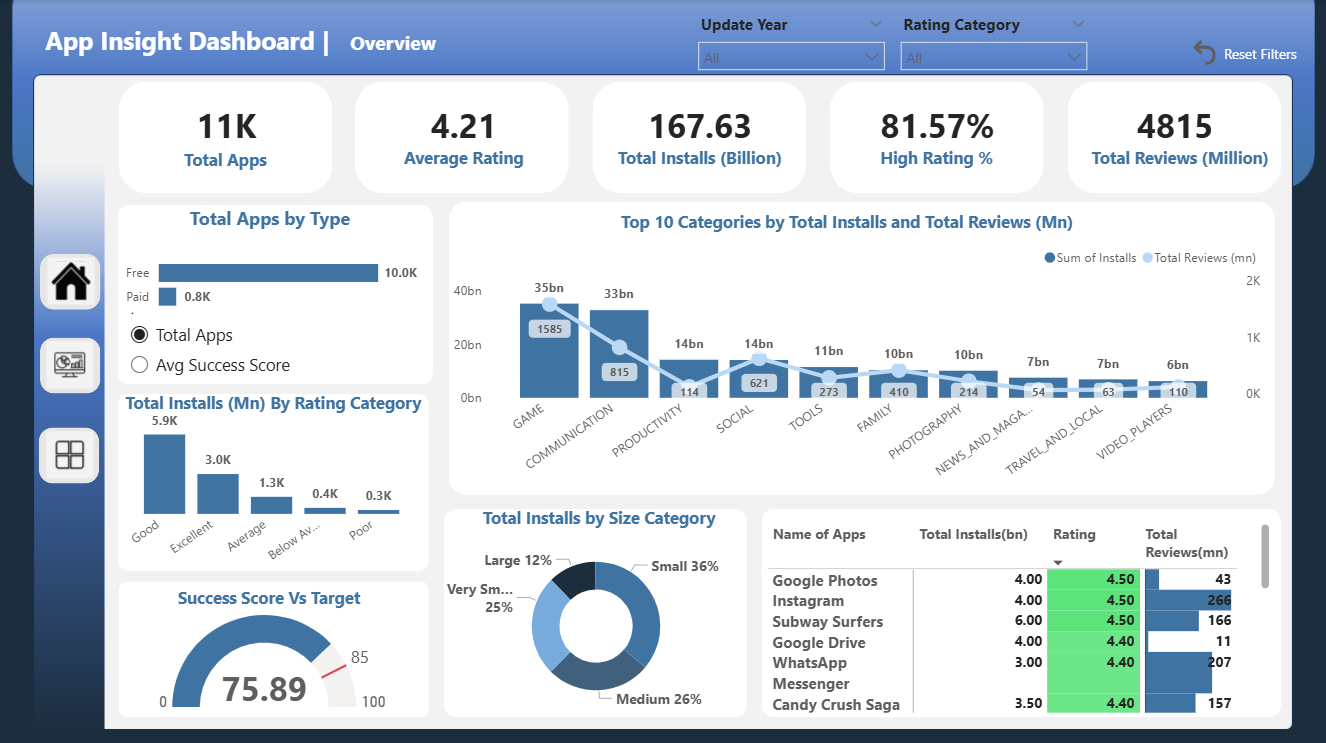

What the dashboard file says about the page in this screenshot:
{"tool":"powerbi","page":{"name":"Home","canvas":[1280,720],"ordinal":0},"visuals":[{"type":"shape","box":[38.4,244.6,58.3,54],"z":0},{"type":"shape","box":[734.7,491.2,501.9,201.5],"z":1000},{"type":"shape","box":[428.3,491.2,293.2,201.5],"z":2000},{"type":"shape","box":[114.6,561.2,299.2,131.5],"z":3000},{"type":"shape","box":[113.4,380,300.4,171.3],"z":4000},{"type":"shape","box":[113.4,198.1,304.4,173.1],"z":5000},{"type":"shape","box":[433.1,194.4,797.5,283.5],"z":6000},{"type":"shape","box":[114.1,78.1,206.3,108.2],"z":7000},{"type":"shape","box":[343.2,78.1,206.3,108.2],"z":8000},{"type":"shape","box":[572.2,78.1,206.3,108.2],"z":9000},{"type":"shape","box":[801.3,78.1,206.3,108.2],"z":10000},{"type":"shape","box":[1030.3,78.1,206.3,108.2],"z":11000},{"type":"card","fields":{"Values":["Measure Table.Total Apps"]},"box":[157.7,75,121.2,92.3],"z":12000},{"type":"clusteredBarChart","fields":{"Y":["Measure Table.Total Apps"],"Category":["Apps.Type"]},"box":[113.4,199.5,294.3,122.6],"z":13000},{"type":"donutChart","fields":{"Category":["Apps.Size Category"],"Y":["Measure Table.Total Apps"]},"box":[430.7,517.8,289.5,173.7],"z":14000},{"type":"gauge","fields":{"Y":["Measure Table.Avg Success Score"],"MinValue":["Measure Table.zero"],"MaxValue":["Measure Table.max"],"TargetValue":["Measure Table.Target"]},"box":[113.8,588.9,299.2,103.8],"z":15000},{"type":"pivotTable","fields":{"Rows":["Apps.App"],"Values":["Measure Table.Total Installs (B)","Measure Table.Avg Rating","Measure Table.Total Reviews (M)"]},"box":[735.9,500.9,494.6,191.8],"z":16000},{"type":"card","fields":{"Values":["Measure Table.Avg Rating"]},"box":[386.8,75.7,121.2,90.9],"z":17000},{"type":"card","fields":{"Values":["Measure Table.Total Installs (B)"]},"box":[615.8,75.7,121.2,90.9],"z":18000},{"type":"card","fields":{"Values":["Measure Table.High Rating %"]},"box":[844.9,75.7,121.2,90.9],"z":19000},{"type":"card","fields":{"Values":["Measure Table.Total Reviews (M)"]},"box":[1073.9,75.7,121.2,90.9],"z":20000},{"type":"textbox","box":[172.2,137.3,106.8,49.1],"z":21000},{"type":"textbox","box":[384.3,135.9,150,49.1],"z":22000},{"type":"textbox","box":[590.6,135.9,183.2,49.1],"z":23000},{"type":"textbox","box":[844.5,135.9,152.9,49.1],"z":24000},{"type":"textbox","box":[1047.9,135.9,183.2,49.1],"z":25000},{"type":"clusteredColumnChart","fields":{"Y":["Measure Table.Total Apps"],"Category":["Apps.Rating Category"]},"box":[113.4,386.3,299.2,170.1],"z":26000},{"type":"lineStackedColumnComboChart","fields":{"Category":["Apps.Category"],"Y":["Sum(Apps.Installs)"],"Y2":["Measure Table.Total Reviews (M)"]},"box":[433.1,229.4,789,244.9],"z":27000},{"type":"textbox","box":[589.9,198.1,462.1,47.1],"z":28000},{"type":"textbox","box":[115.8,372.8,316.1,31.4],"z":29000},{"type":"textbox","box":[166.9,561.2,200.3,33.8],"z":30000},{"type":"textbox","box":[460.9,484,273.9,33.8],"z":31000},{"type":"slicer","fields":{"Values":["_._"]},"box":[113.4,284.7,294.4,95.3],"z":32000},{"type":"slicer","fields":{"Values":["Apps.Update Year"]},"box":[663.8,8.5,200.5,64.9],"z":33000},{"type":"slicer","fields":{"Values":["Apps.Rating Category"]},"box":[858.6,8.5,200.5,64.9],"z":34000},{"type":"shape","box":[38.4,325.7,58.3,54],"z":35000},{"type":"actionButton","box":[44.1,330,45.5,45.5],"z":36000},{"type":"shape","box":[37,412.4,58.3,54],"z":37000},{"type":"actionButton","box":[44.1,416.7,45.5,45.5],"z":38000},{"type":"actionButton","box":[45.5,248.9,45.5,45.5],"z":39000},{"type":"textbox","box":[38.6,18.1,421,44.6],"z":40000},{"type":"actionButton","box":[1145.6,33.6,116.9,33.2],"z":41000},{"type":"textbox","box":[1176.3,37.4,92.9,32.6],"z":42000}]}

Visuals, with their boxes in screenshot pixels (x1, y1, x2, y2), scaled from the page's 1280x720 canvas onto the 1326x743 screenshot:
shape: region(40, 252, 100, 308)
shape: region(761, 507, 1281, 715)
shape: region(444, 507, 747, 715)
shape: region(119, 579, 429, 715)
shape: region(117, 392, 429, 569)
shape: region(117, 204, 433, 383)
shape: region(449, 201, 1275, 493)
shape: region(118, 81, 332, 192)
shape: region(356, 81, 569, 192)
shape: region(593, 81, 806, 192)
shape: region(830, 81, 1044, 192)
shape: region(1067, 81, 1281, 192)
card - Measure Table.Total Apps: region(163, 77, 289, 173)
clusteredBarChart - Measure Table.Total Apps x Apps.Type: region(117, 206, 422, 332)
donutChart - Apps.Size Category x Measure Table.Total Apps: region(446, 534, 746, 714)
gauge - Measure Table.Avg Success Score x Measure Table.zero: region(118, 608, 428, 715)
pivotTable - Apps.App x Measure Table.Total Installs (B): region(762, 517, 1275, 715)
card - Measure Table.Avg Rating: region(401, 78, 526, 172)
card - Measure Table.Total Installs (B): region(638, 78, 763, 172)
card - Measure Table.High Rating %: region(875, 78, 1001, 172)
card - Measure Table.Total Reviews (M): region(1112, 78, 1238, 172)
textbox: region(178, 142, 289, 192)
textbox: region(398, 140, 554, 191)
textbox: region(612, 140, 802, 191)
textbox: region(875, 140, 1033, 191)
textbox: region(1086, 140, 1275, 191)
clusteredColumnChart - Measure Table.Total Apps x Apps.Rating Category: region(117, 399, 427, 574)
lineStackedColumnComboChart - Apps.Category x Sum(Apps.Installs): region(449, 237, 1266, 489)
textbox: region(611, 204, 1090, 253)
textbox: region(120, 385, 447, 417)
textbox: region(173, 579, 380, 614)
textbox: region(477, 499, 761, 534)
slicer - _._: region(117, 294, 422, 392)
slicer - Apps.Update Year: region(688, 9, 895, 76)
slicer - Apps.Rating Category: region(889, 9, 1097, 76)
shape: region(40, 336, 100, 392)
actionButton: region(46, 341, 93, 387)
shape: region(38, 426, 99, 481)
actionButton: region(46, 430, 93, 477)
actionButton: region(47, 257, 94, 304)
textbox: region(40, 19, 476, 65)
actionButton: region(1187, 35, 1308, 69)
textbox: region(1219, 39, 1315, 72)
